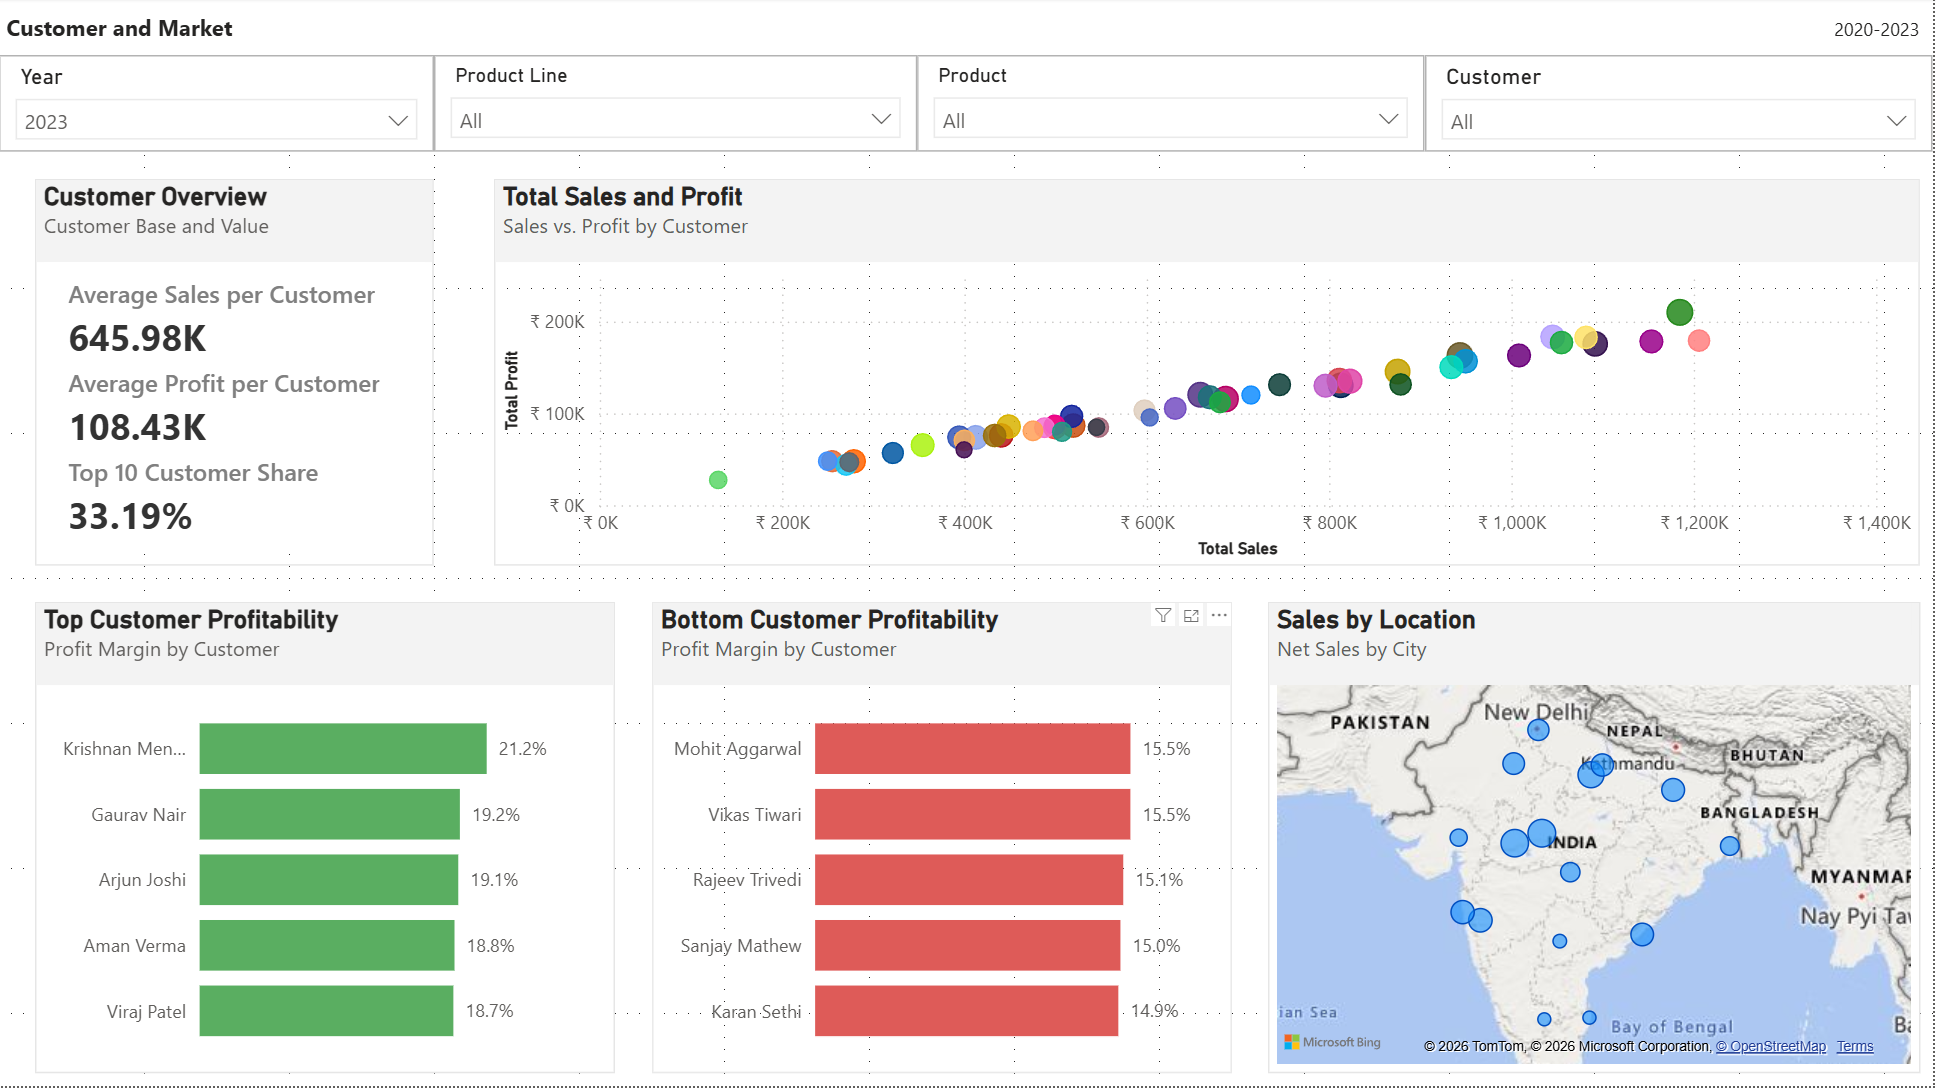

The page's visual inventory and layout, read from the dashboard file:
{"tool":"powerbi","page":{"name":"Customer Market","canvas":[1280,720],"ordinal":2},"visuals":[{"type":"textbox","box":[0,0,1280,40],"z":0},{"type":"slicer","fields":{"Values":["Dim Date.Year"]},"box":[0,38,288,64],"z":1000},{"type":"slicer","fields":{"Values":["Dim Customers.Customer Name"]},"box":[944,38,336,64],"z":2000},{"type":"slicer","fields":{"Values":["Dim Product.Product Name"]},"box":[608,38,336,64],"z":3000},{"type":"slicer","fields":{"Values":["Dim Product.Product Line"]},"box":[288,38,320,64],"z":4000},{"type":"cardVisual","title":"Customer Overview","fields":{"Data":["Measures Table.Total Customer","Measures Table.Avg Profit/Cust","Measures Table.Top 10 Cust Share"]},"box":[24,120,264,256],"z":5000},{"type":"scatterChart","title":"Total Sales and Profit","fields":{"Size":["Measures Table.Total Unit"],"Series":["Dim Customers.Customer Name"],"X":["Measures Table.Total Sales"],"Y":["Measures Table.Total Profit"]},"box":[328,120,944,256],"z":6000},{"type":"clusteredBarChart","title":"Top Customer Profitability","fields":{"Category":["Dim Customers.Customer Name"],"Y":["Measures Table.Profit Margin"]},"box":[24,400,384,312],"z":7000},{"type":"clusteredBarChart","title":"Bottom Customer Profitability","fields":{"Category":["Dim Customers.Customer Name"],"Y":["Measures Table.Profit Margin"]},"box":[432,400,384,312],"z":8000},{"type":"map","title":"Sales by Location","fields":{"Category":["Dim Customers.City"],"Size":["Measures Table.Total Sales"]},"box":[840,400,432,312],"z":9000}]}

Visuals, with their boxes in screenshot pixels (x1, y1, x2, y2), scaled from the page's 1280x720 canvas onto the 1936x1088 screenshot:
textbox: pyautogui.locateOnScreen(0, 0, 1935, 60)
slicer - Dim Date.Year: pyautogui.locateOnScreen(0, 57, 436, 154)
slicer - Dim Customers.Customer Name: pyautogui.locateOnScreen(1428, 57, 1935, 154)
slicer - Dim Product.Product Name: pyautogui.locateOnScreen(920, 57, 1428, 154)
slicer - Dim Product.Product Line: pyautogui.locateOnScreen(436, 57, 920, 154)
"Customer Overview" cardVisual: pyautogui.locateOnScreen(36, 181, 436, 568)
"Total Sales and Profit" scatterChart: pyautogui.locateOnScreen(496, 181, 1924, 568)
"Top Customer Profitability" clusteredBarChart: pyautogui.locateOnScreen(36, 604, 617, 1076)
"Bottom Customer Profitability" clusteredBarChart: pyautogui.locateOnScreen(653, 604, 1234, 1076)
"Sales by Location" map: pyautogui.locateOnScreen(1270, 604, 1924, 1076)
